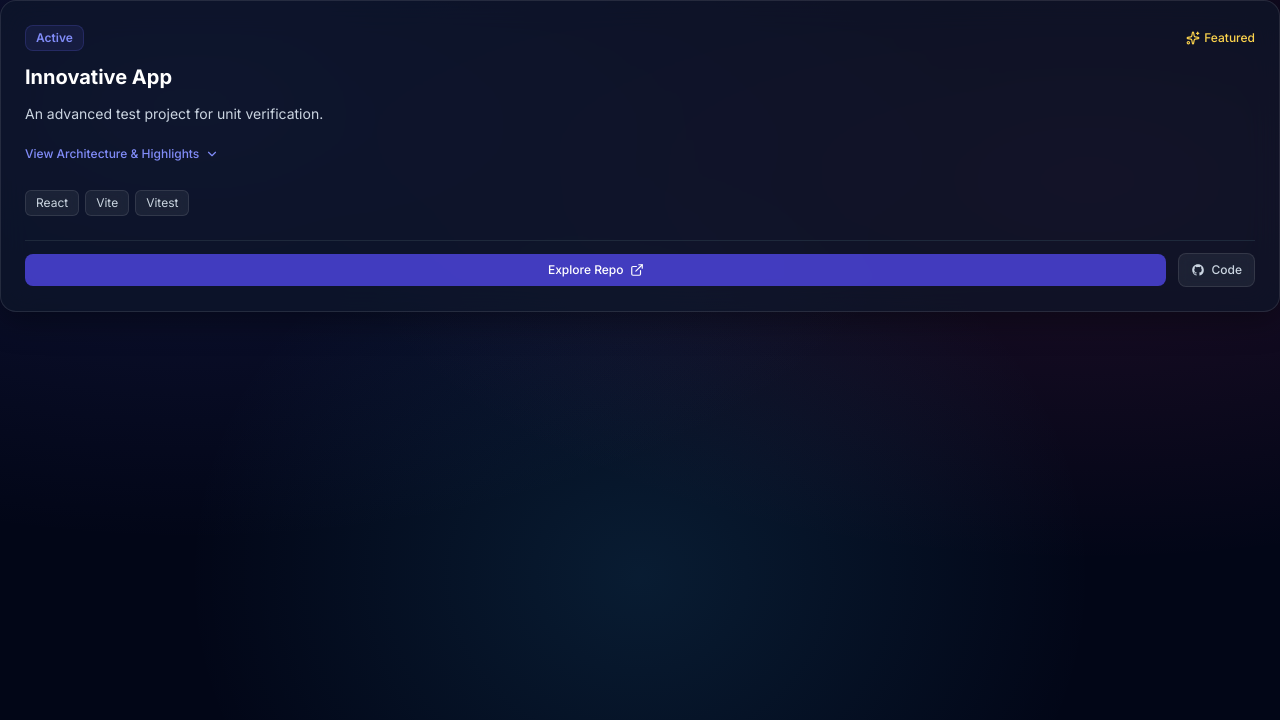
ProjectCard Component › toggles architecture highlights on button click
Check: the text "View Architecture & Highlights" is shown, box top-left (25, 146), bottom-right (199, 162)
Check: the text "Modular micro-architecture" is not shown
Note: Click to expand
Click the button "View Architecture & Highlights": [122, 154] box top-left (25, 142), bottom-right (219, 166)
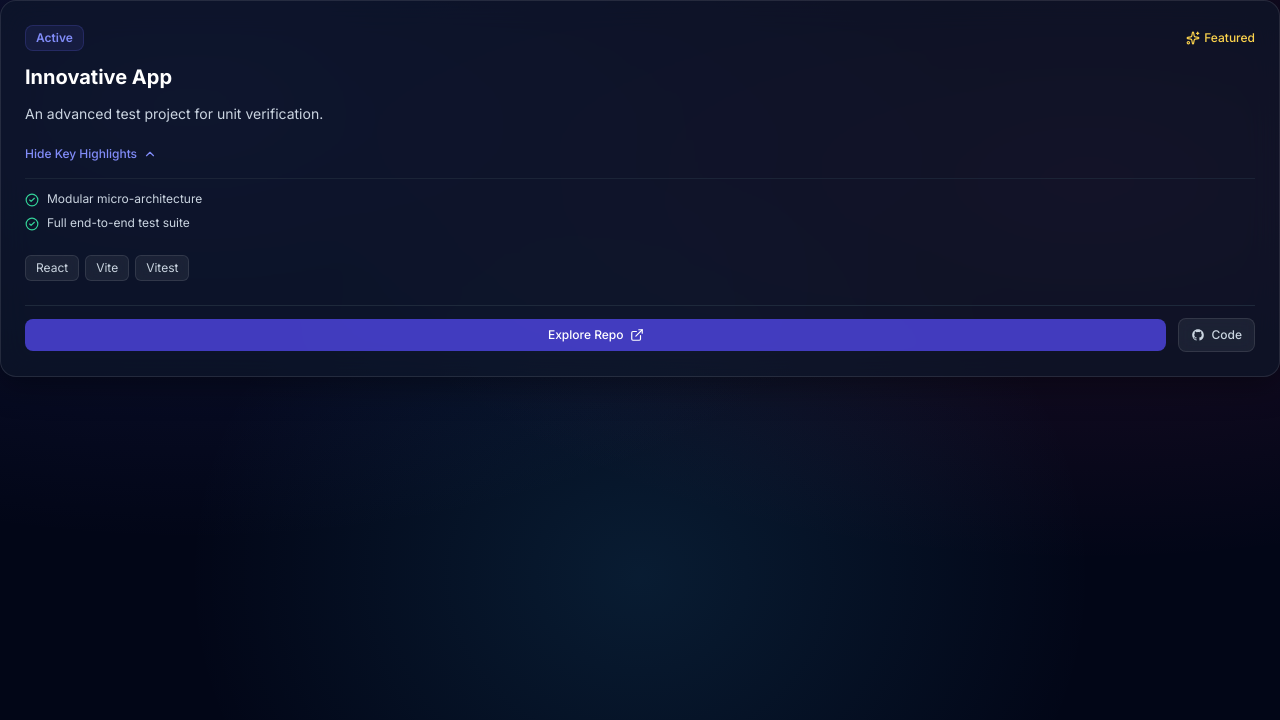
Check: the text "Modular micro-architecture" is shown, box top-left (47, 191), bottom-right (202, 207)
Check: the text "Hide Key Highlights" is shown, box top-left (25, 146), bottom-right (137, 162)
Note: Click to collapse
Click the button "Hide Key Highlights": [91, 154] box top-left (25, 142), bottom-right (157, 166)
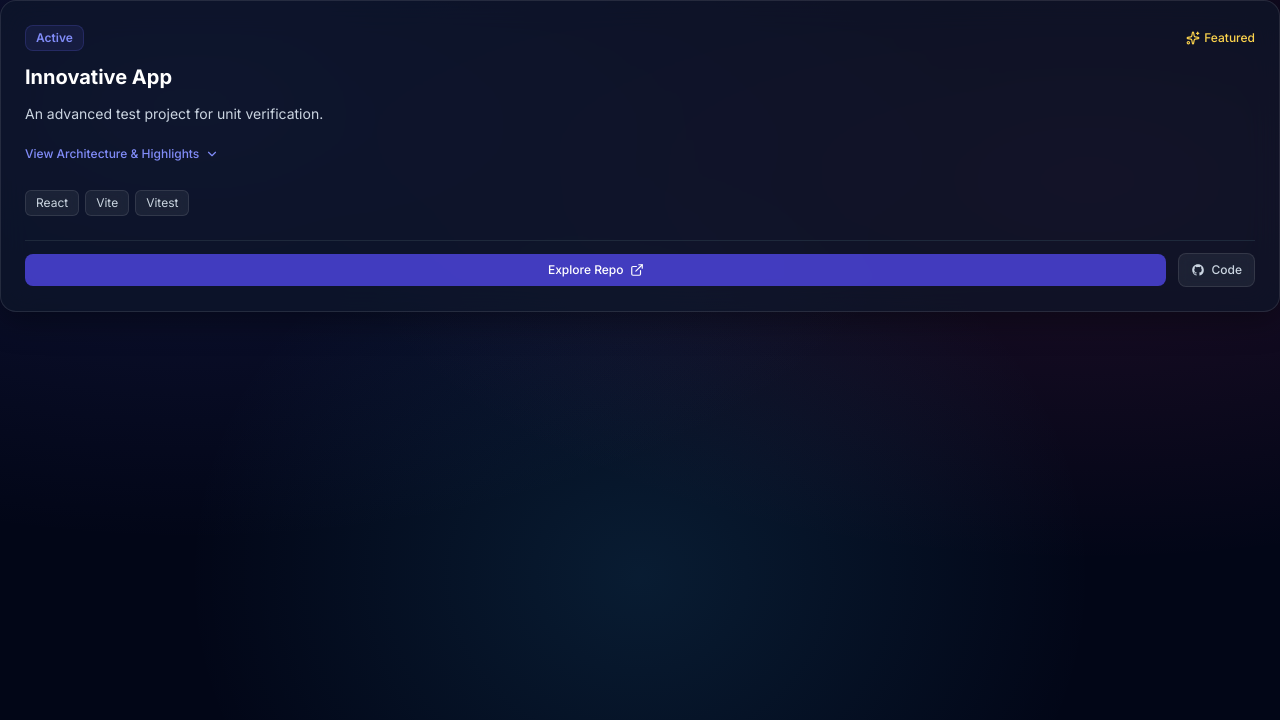
Check: the text "Modular micro-architecture" is gone
